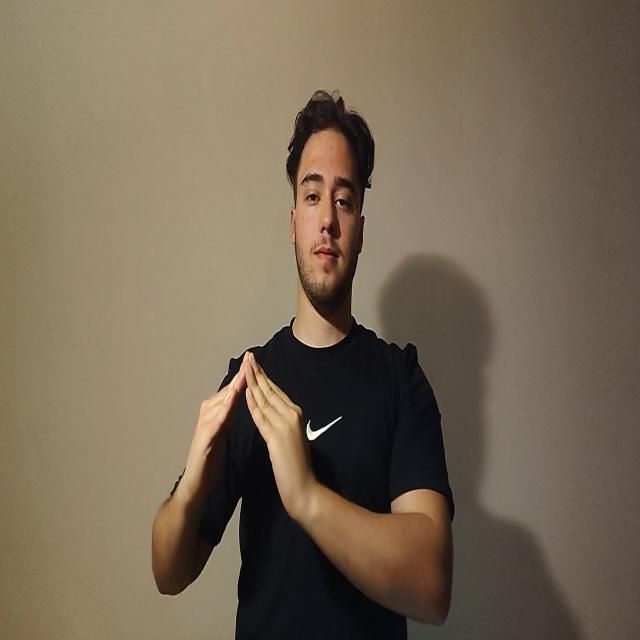house: (188, 348, 303, 518)
